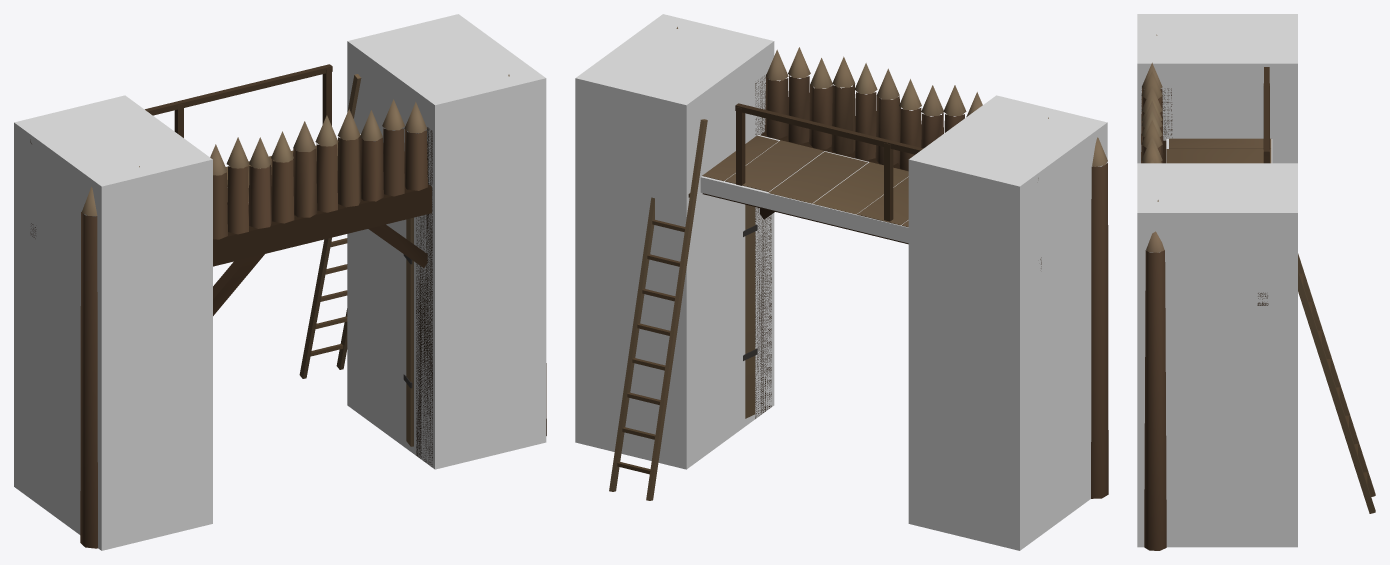
File: palisade_gate.glb
The picture shows the model from 3 angles, left to right: view 1: azimuth 30°, elevation 25°; view 2: azimuth 150°, elevation 25°; view 3: azimuth 270°, elevation 25°; orthographic projection. The views are drawn at different scales.
Parts seen in each view (by area): view 1: COL_left, COL_right, palisade_gate, WALK_walkway; view 2: COL_left, COL_right, palisade_gate, WALK_walkway; view 3: COL_right, COL_left, palisade_gate, WALK_walkway.
Part boxes in pixels (x1=…): COL_left: x1=14, y1=95, x2=212, y2=550; COL_right: x1=347, y1=14, x2=546, y2=469; palisade_gate: x1=30, y1=64, x2=546, y2=548; WALK_walkway: x1=28, y1=134, x2=360, y2=268; COL_left: x1=908, y1=95, x2=1107, y2=550; COL_right: x1=575, y1=14, x2=774, y2=469; palisade_gate: x1=609, y1=27, x2=1108, y2=500; WALK_walkway: x1=700, y1=135, x2=908, y2=243; COL_right: x1=1137, y1=163, x2=1297, y2=547; COL_left: x1=1137, y1=14, x2=1297, y2=163; palisade_gate: x1=1141, y1=34, x2=1375, y2=550; WALK_walkway: x1=1166, y1=139, x2=1272, y2=302.
Bounding box in the file's own units: 6.23 × 4.84 × 3.04.
